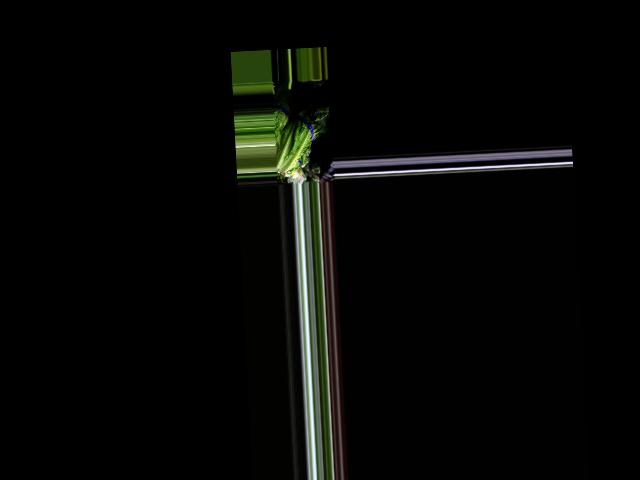lettuce: (273, 102, 328, 169)
